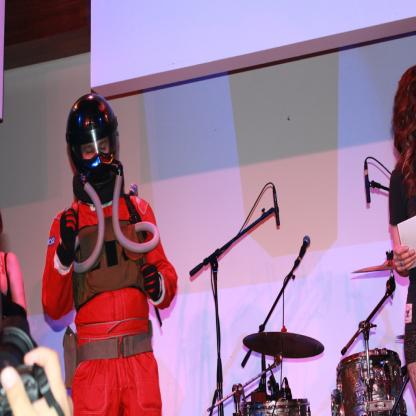Helmet: (60, 90, 122, 201)
